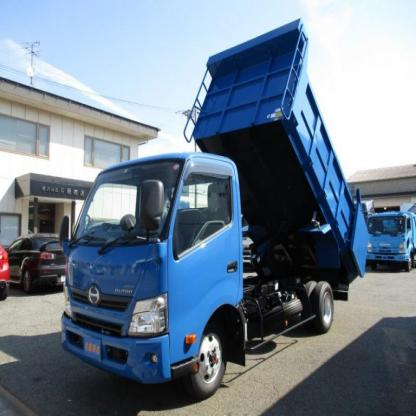dump_truck: (35, 17, 377, 396), (364, 201, 416, 274)
